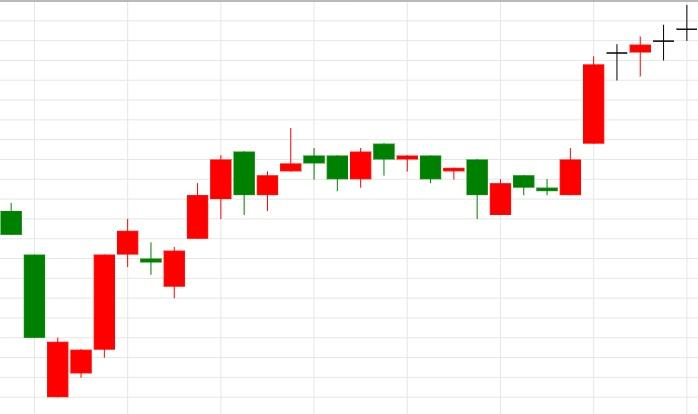three_white_soldiers_rise: (1, 202, 138, 397)
